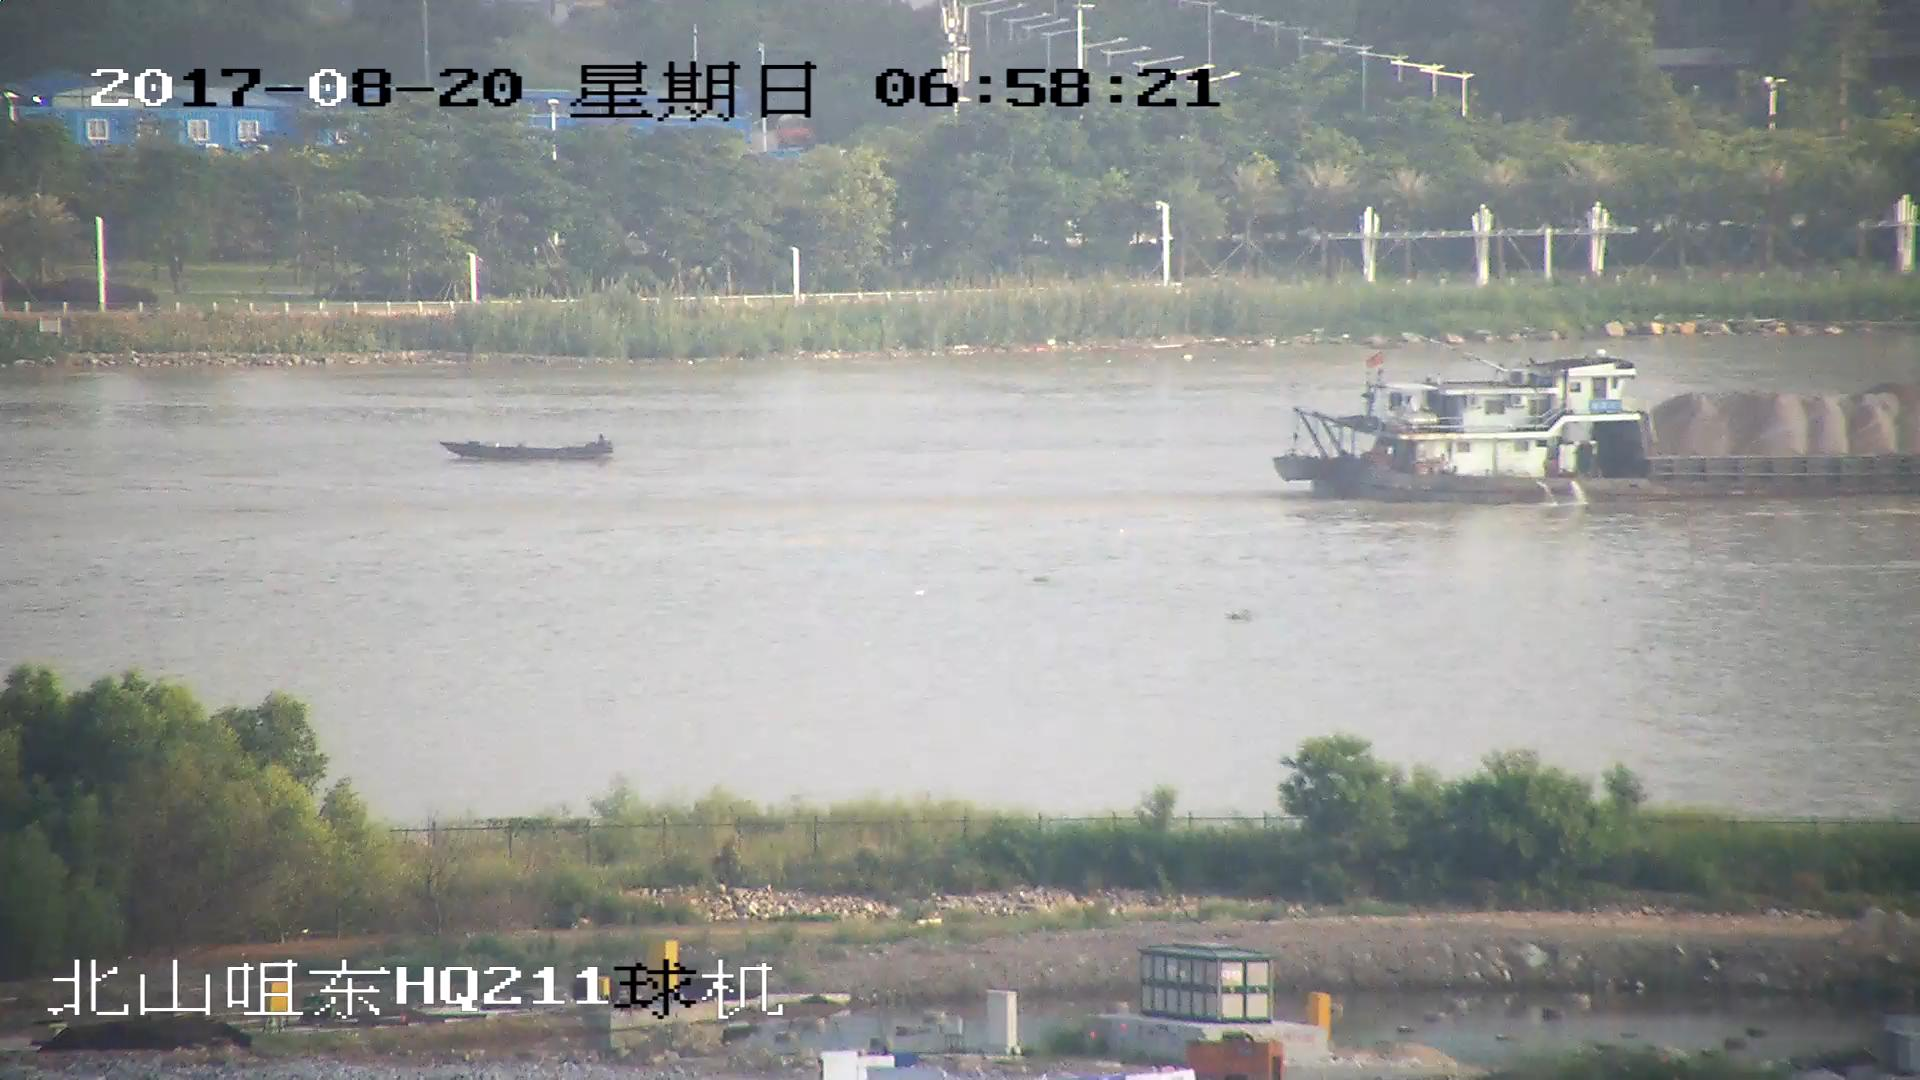fishing boat: (441, 434, 622, 465)
ore carrier: (1274, 340, 1920, 508)
